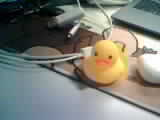duck: (68, 38, 125, 95)
